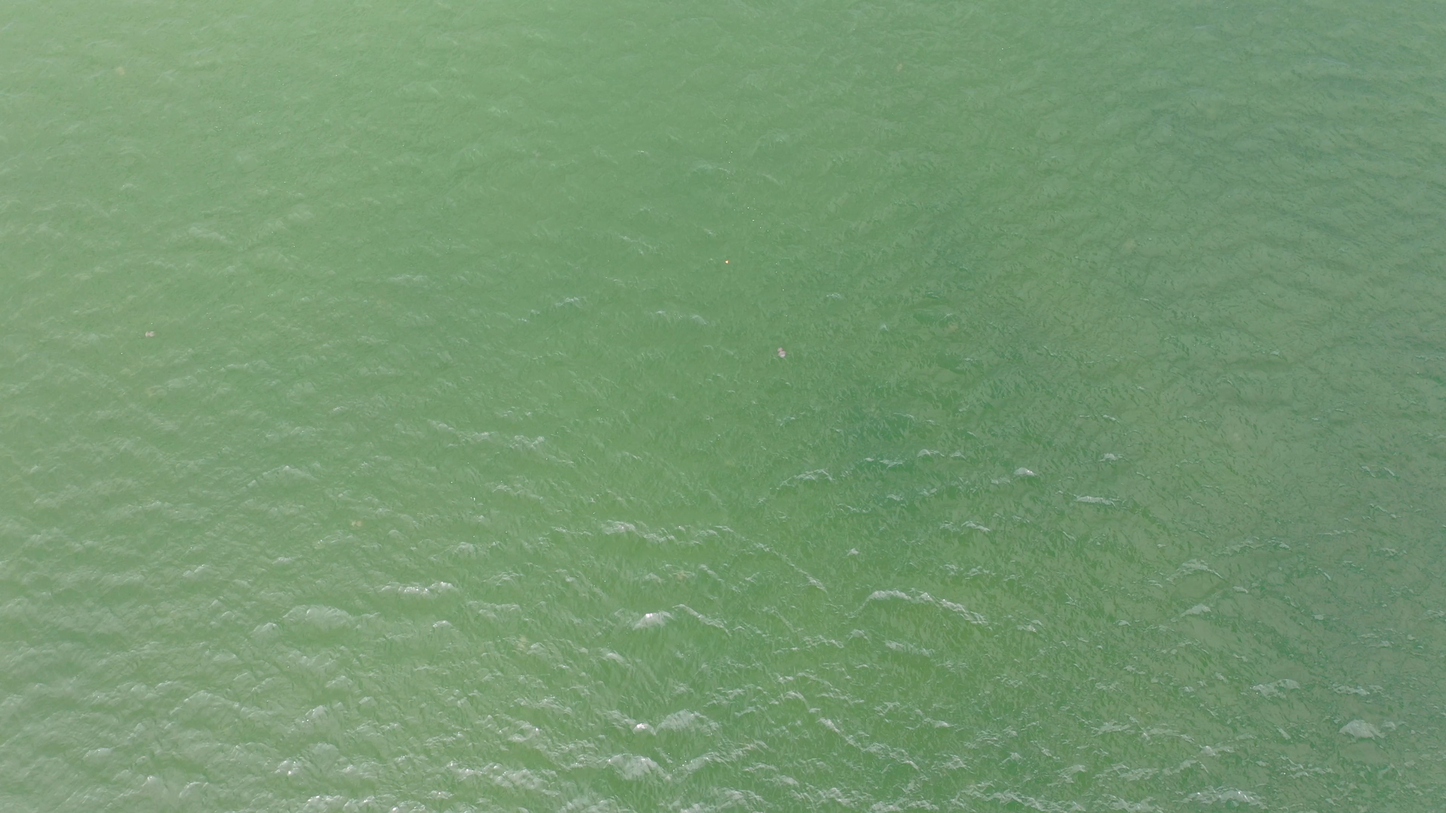meduse: (776, 347, 787, 359), (949, 322, 961, 333), (517, 637, 528, 647), (352, 520, 362, 530), (895, 63, 903, 73), (1234, 433, 1242, 442), (676, 571, 684, 580), (145, 330, 155, 337)
